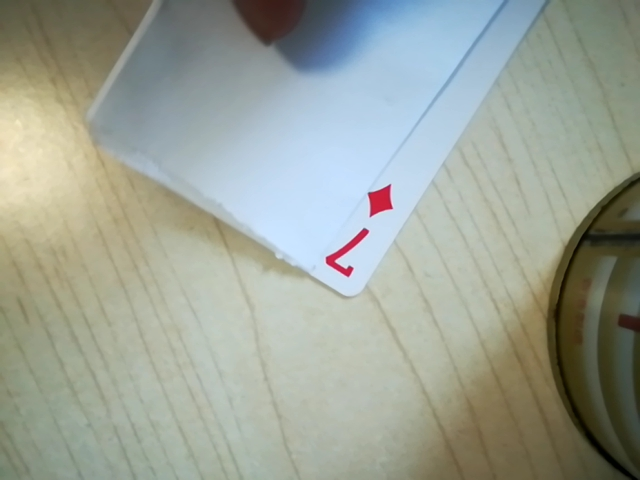fk 7: (317, 180, 396, 281)
